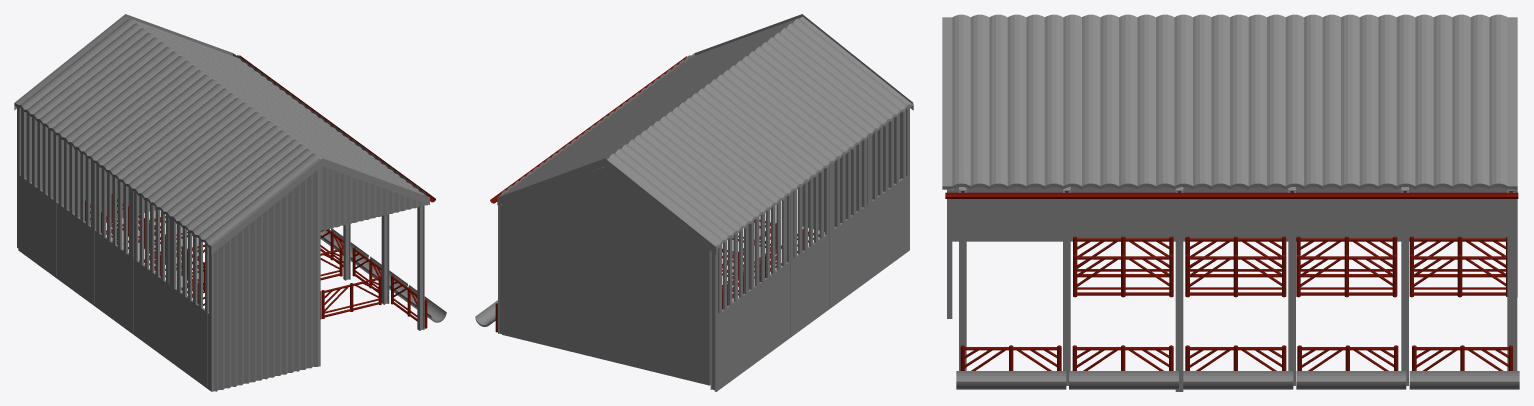
Rendered from Sheep Den (Fix).fbx.
3 renders of one model, left to right at view 1: azimuth 30°, elevation 25°; view 2: azimuth 150°, elevation 25°; view 3: azimuth 270°, elevation 25°, orthographic. The views are drawn at different scales.
Parts seen in each view (by area): view 1: Plane.012, Cylinder.007, Cylinder; view 2: Plane.012, Cylinder.007, Cylinder; view 3: Plane.012, Cylinder.007, Cylinder.
Boxes of the visible parts, bbox=[...] form: Plane.012: bbox=[14, 14, 446, 391]; Cylinder.007: bbox=[85, 194, 427, 328]; Cylinder: bbox=[239, 55, 435, 202]; Plane.012: bbox=[475, 14, 913, 391]; Cylinder.007: bbox=[495, 220, 819, 332]; Cylinder: bbox=[490, 56, 686, 203]; Plane.012: bbox=[942, 14, 1519, 391]; Cylinder.007: bbox=[960, 236, 1512, 370]; Cylinder: bbox=[945, 192, 1518, 198].
Size of the model in its own units: 1330 by 1106 by 1895.
